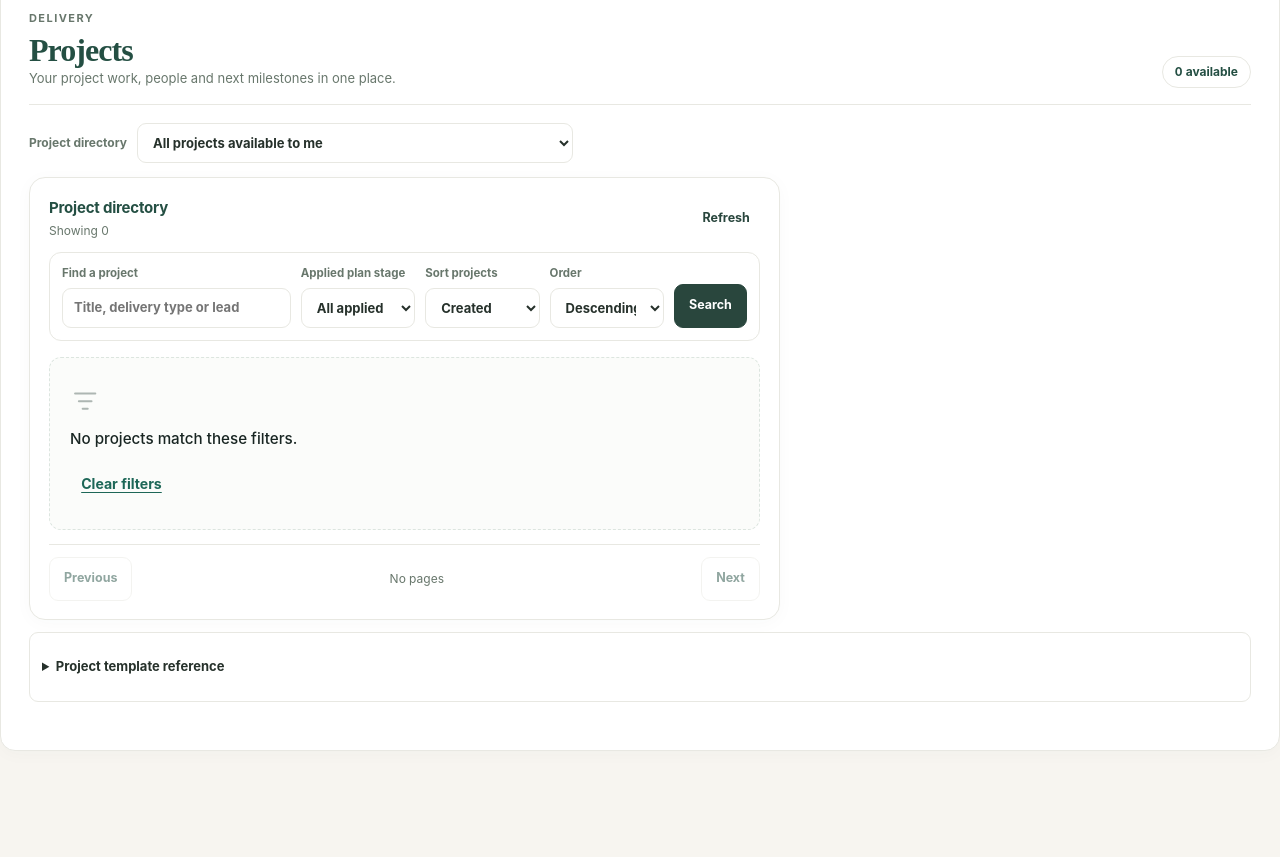
Test: reviewed usability improvements › preserves explicitly granted staff template management below the project directory
Click the heading "Project template reference" at [140, 666], box [56,658,224,674]
(page scrolled)
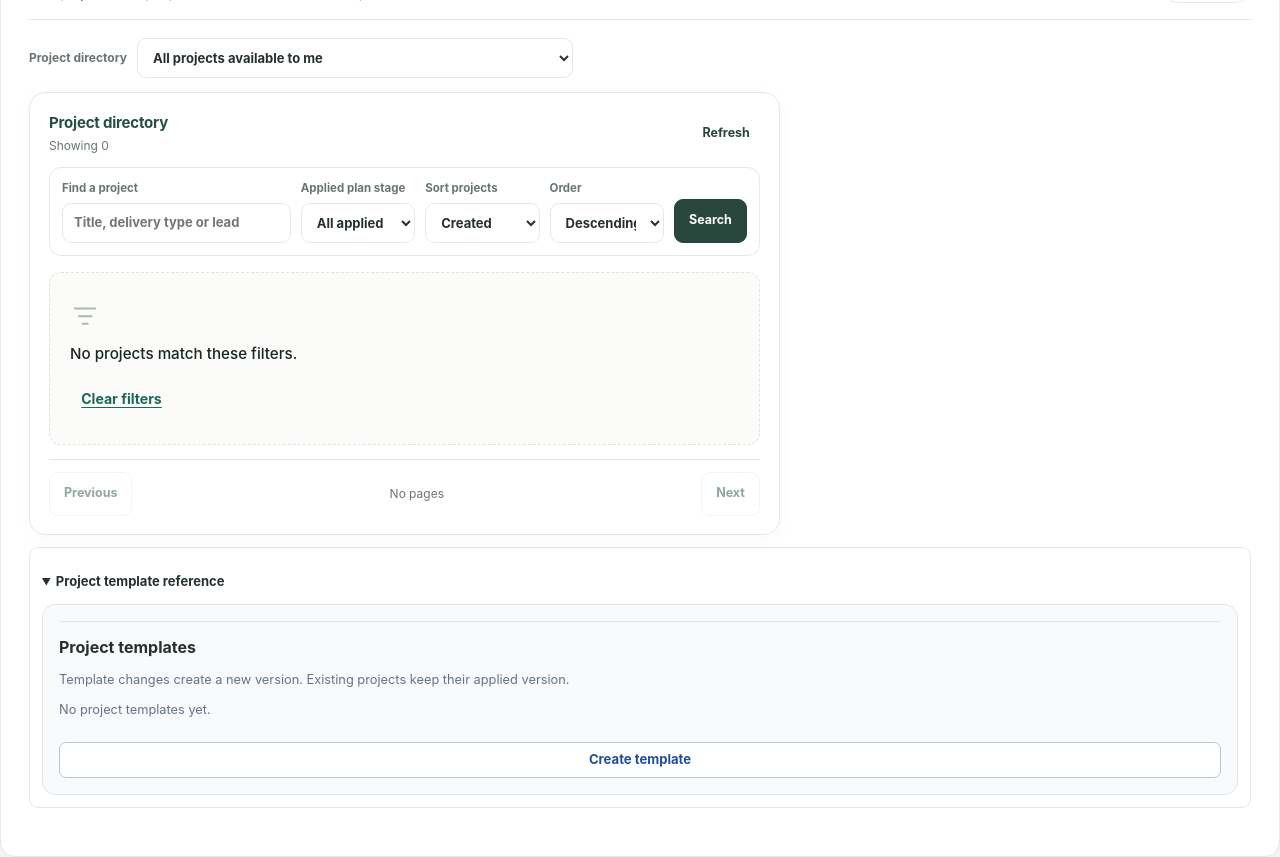
Expected: the button "Create template" is enabled, [59,742,1221,778]
